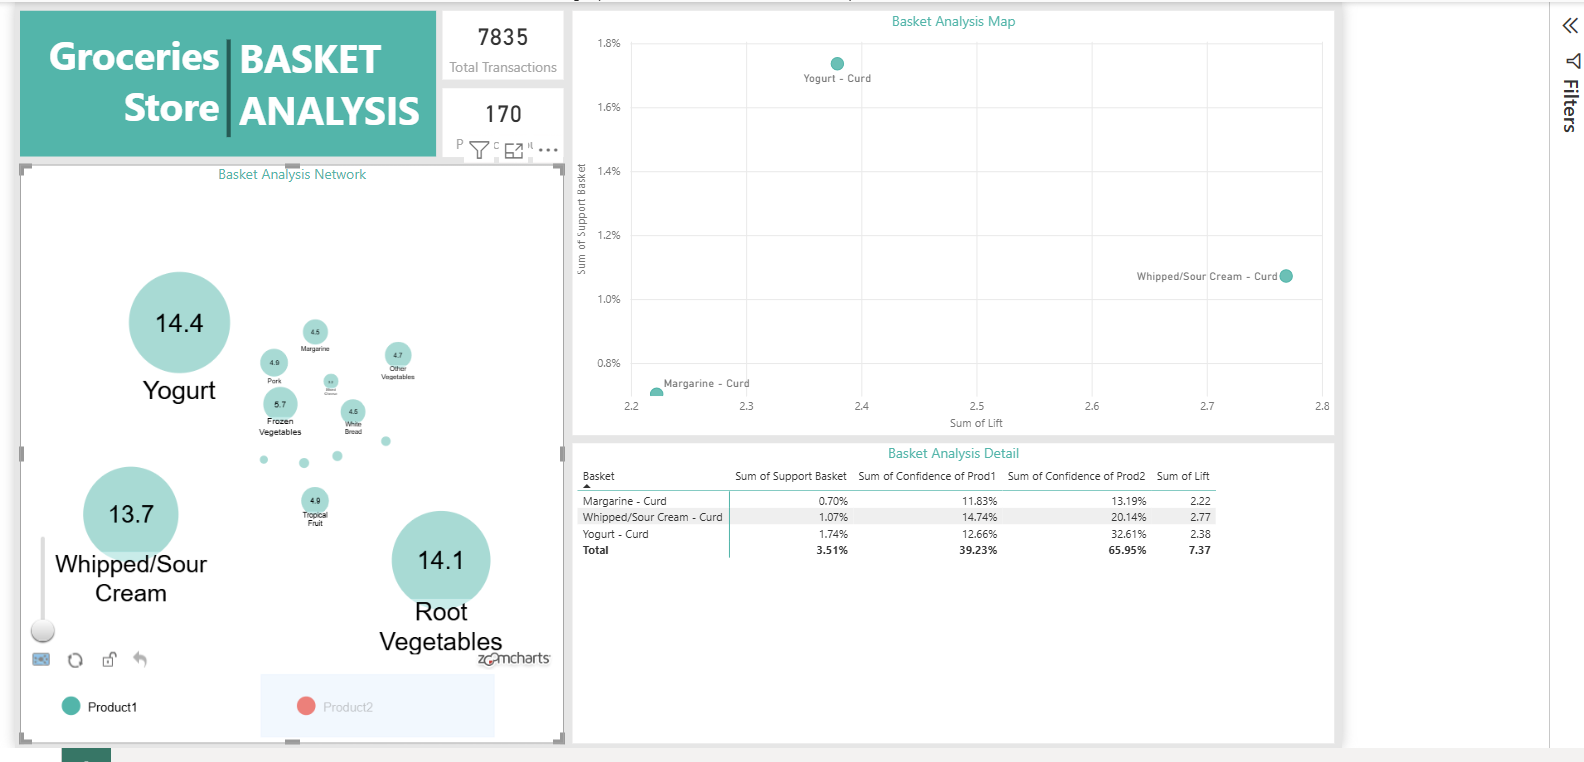

What the dashboard file says about the page in this screenshot:
{"tool":"powerbi","page":{"name":"Page 1","canvas":[1280,720],"ordinal":0},"visuals":[{"type":"shape","box":[5.2,8.5,401.8,140.7],"z":0},{"type":"ZoomChartsNetChartFreeD1C58E3B59077E6D06A4CB9B0D4E2029A917","title":"Basket Analysis Network","fields":{"Nodes":["Basket Analysis.Product1","Basket Analysis.Product2"],"Size":["Sum(Basket Analysis.Lift)"]},"box":[5.2,157.1,524.8,558.2],"z":1000},{"type":"scatterChart","title":"Basket Analysis Map","fields":{"Category":["Basket Analysis.Basket"],"X":["Sum(Basket Analysis.Lift)"],"Y":["Sum(Basket Analysis.Support Basket)"]},"box":[537.9,8.5,735.5,409.7],"z":2000},{"type":"pivotTable","title":"Basket Analysis Detail","fields":{"Rows":["Basket Analysis.Basket"],"Values":["Sum(Basket Analysis.Support Basket)","Sum(Basket Analysis.Confidence of Prod1)","Sum(Basket Analysis.Confidence of Prod2)","Sum(Basket Analysis.Lift)"]},"box":[537.9,425.4,735.5,289.9],"z":3000},{"type":"textbox","box":[211.4,24.2,216.6,139.4],"z":4000},{"type":"card","fields":{"Values":["Groceries.Total Transactions"]},"box":[412.9,8.5,117.1,66.7],"z":5000},{"type":"card","fields":{"Values":["Groceries.Products Count"]},"box":[412.9,83.1,117.1,66.1],"z":6000},{"type":"textbox","box":[0,20.3,202.2,128.9],"z":7000},{"type":"shape","box":[172.1,36,67.4,94.2],"z":8000}]}

Visuals, with their boxes in screenshot pixels (x1, y1, x2, y2):
shape: locate(14, 5, 434, 152)
"Basket Analysis Network" ZoomChartsNetChartFreeD1C58E3B59077E6D06A4CB9B0D4E2029A917: locate(14, 160, 562, 744)
"Basket Analysis Map" scatterChart: locate(570, 5, 1339, 433)
"Basket Analysis Detail" pivotTable: locate(570, 441, 1339, 744)
textbox: locate(229, 21, 456, 167)
card - Groceries.Total Transactions: locate(440, 5, 562, 74)
card - Groceries.Products Count: locate(440, 83, 562, 152)
textbox: locate(8, 17, 220, 152)
shape: locate(188, 34, 259, 132)
